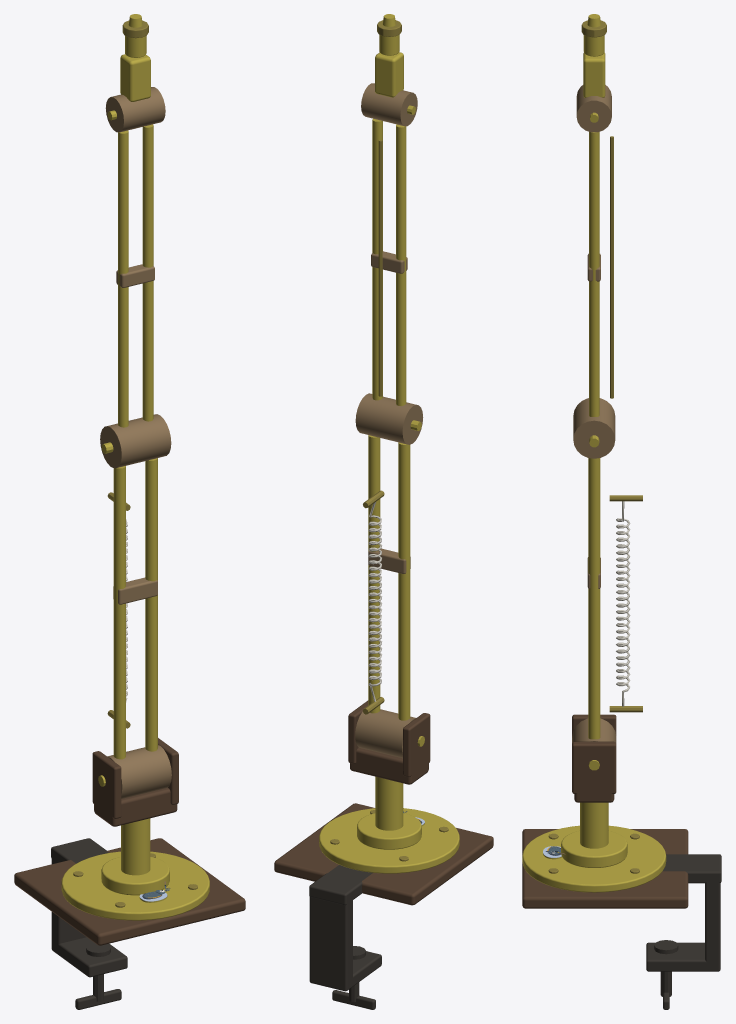
Rendered from arm.glb.
3 renders of one model, left to right at view 1: azimuth 30°, elevation 25°; view 2: azimuth 150°, elevation 25°; view 3: azimuth 270°, elevation 25°, orthographic. The views are drawn at different scales.
Parts seen in each view (by area): view 1: Arm_BasePad, Arm_BasePlate, Arm_UpperTube_-1, Arm_UpperTube_1, Arm_LowerTube_1, Arm_LowerTube_-1, Arm_ElbowKnuckle, Arm_ShoulderHub, Arm_Turntable, Arm_WristKnuckle, Arm_ShoulderFork, Arm_ShoulderCheek_-1 (+8 smaller); view 2: Arm_BasePad, Arm_BasePlate, Arm_ClampJaw, Arm_UpperTube_-1, Arm_LowerTube_-1, Arm_ElbowKnuckle, Arm_UpperTube_1, Arm_LowerTube_1, Arm_ShoulderHub, Arm_Spring, Arm_Turntable, Arm_WristKnuckle (+10 smaller); view 3: Arm_BasePad, Arm_BasePlate, Arm_UpperTube_1, Arm_LowerTube_1, Arm_ShoulderCheek_1, Arm_ElbowKnuckle, Arm_Turntable, Arm_Spring, Arm_ClampJaw, Arm_ClampFoot, Arm_Column, Arm_WristKnuckle (+4 smaller).
Part boxes in pixels (<box>): Arm_BasePad: <box>14,838,245,945</box>; Arm_BasePlate: <box>61,851,209,920</box>; Arm_UpperTube_-1: <box>113,466,125,759</box>; Arm_UpperTube_1: <box>145,458,157,751</box>; Arm_LowerTube_1: <box>142,124,153,421</box>; Arm_LowerTube_-1: <box>118,130,128,427</box>; Arm_ElbowKnuckle: <box>100,414,171,468</box>; Arm_ShoulderHub: <box>107,745,171,798</box>; Arm_Turntable: <box>101,857,169,895</box>; Arm_WristKnuckle: <box>105,87,165,132</box>; Arm_ShoulderFork: <box>94,787,177,826</box>; Arm_ShoulderCheek_-1: <box>92,751,121,818</box>; Arm_BasePad: <box>274,803,493,905</box>; Arm_BasePlate: <box>319,808,459,873</box>; Arm_ClampJaw: <box>309,881,352,991</box>; Arm_UpperTube_-1: <box>398,442,410,720</box>; Arm_LowerTube_-1: <box>396,124,406,405</box>; Arm_ElbowKnuckle: <box>355,393,423,444</box>; Arm_UpperTube_1: <box>368,435,380,713</box>; Arm_LowerTube_1: <box>372,118,382,400</box>; Arm_ShoulderHub: <box>355,709,415,758</box>; Arm_Spring: <box>368,502,381,701</box>; Arm_Turntable: <box>357,813,421,849</box>; Arm_WristKnuckle: <box>361,83,417,126</box>; Arm_BasePad: <box>522,829,688,908</box>; Arm_BasePlate: <box>522,825,666,892</box>; Arm_UpperTube_1: <box>588,458,600,739</box>; Arm_LowerTube_1: <box>589,132,599,416</box>; Arm_ShoulderCheek_1: <box>572,741,616,793</box>; Arm_ElbowKnuckle: <box>573,398,615,458</box>; Arm_Turntable: <box>561,831,627,867</box>; Arm_Spring: <box>616,501,630,706</box>; Arm_ClampJaw: <box>705,854,720,971</box>; Arm_ClampFoot: <box>646,942,710,971</box>; Arm_Column: <box>580,802,608,848</box>; Arm_WristKnuckle: <box>576,85,611,132</box>.
Size of the model in its own units: 0.15 by 0.98 by 0.18.
